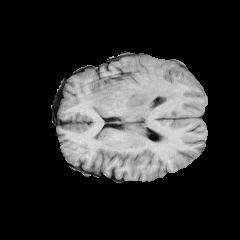glioma: (86, 73, 181, 123)
